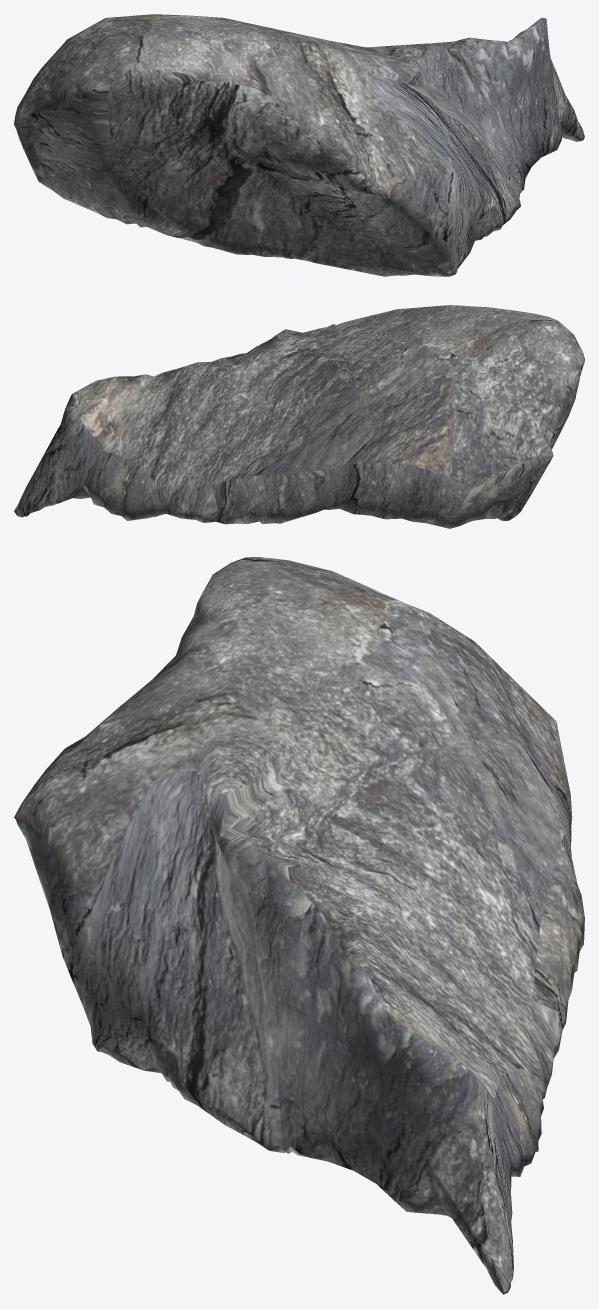
Rendered from Rock(Single2).fbx.
3 views of the same model, one above another, from view 1: azimuth 30°, elevation 25°; view 2: azimuth 150°, elevation 25°; view 3: azimuth 270°, elevation 25° (orthographic). The views are drawn at different scales.
Visible parts, largest first — view 1: Rock2; view 2: Rock2; view 3: Rock2.
Boxes of the visible parts, x1=… form: Rock2: x1=14, y1=14, x2=584, y2=276; Rock2: x1=14, y1=305, x2=584, y2=528; Rock2: x1=14, y1=557, x2=584, y2=1294.
Size of the model in its own units: 75.16 by 35.33 by 46.27.
1 material, 1 textured.
